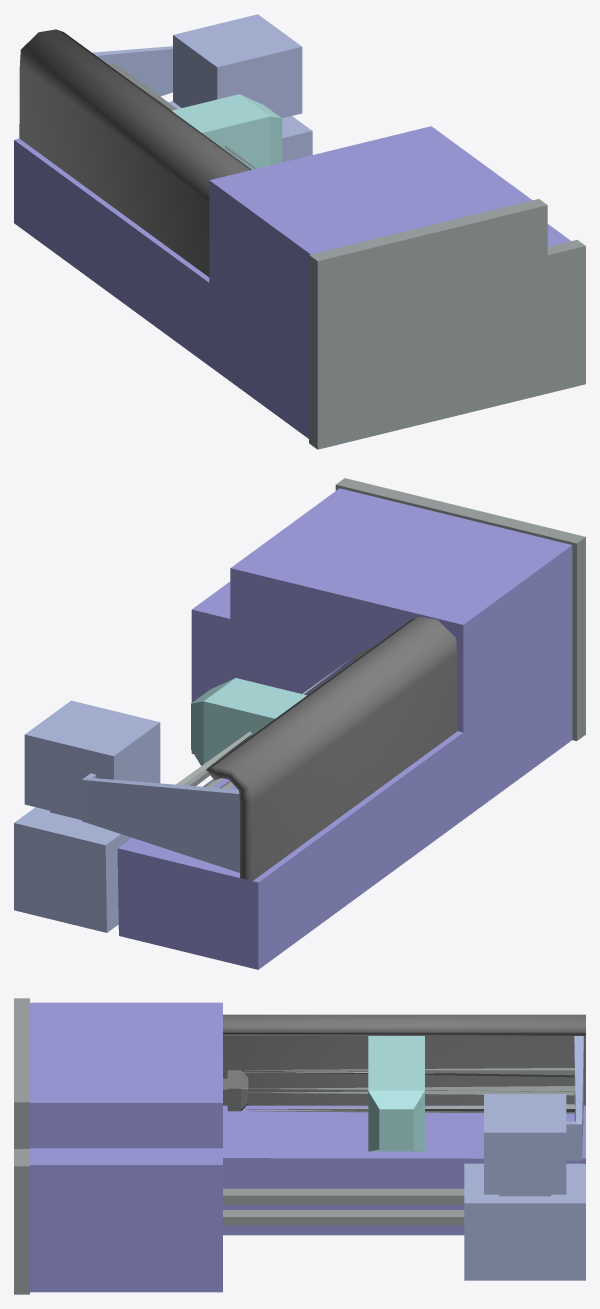
File: Maquina 1.fbx
3 views of the same model, one above another, from view 1: azimuth 30°, elevation 25°; view 2: azimuth 150°, elevation 25°; view 3: azimuth 270°, elevation 25° (orthographic). The views are drawn at different scales.
Visible parts, largest first — view 1: Cube.001; view 2: Cube.001; view 3: Cube.001.
Part boxes in pixels (x1,y1,x2,y2): Cube.001: (14, 14, 585, 449); Cube.001: (14, 478, 585, 969); Cube.001: (14, 998, 585, 1294).
Bounding box in the file's own units: 223 × 150 × 444.
